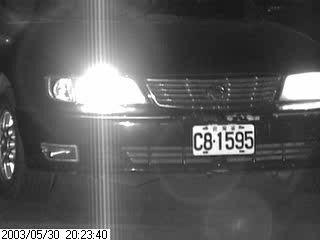plate: (191, 123, 256, 156)
